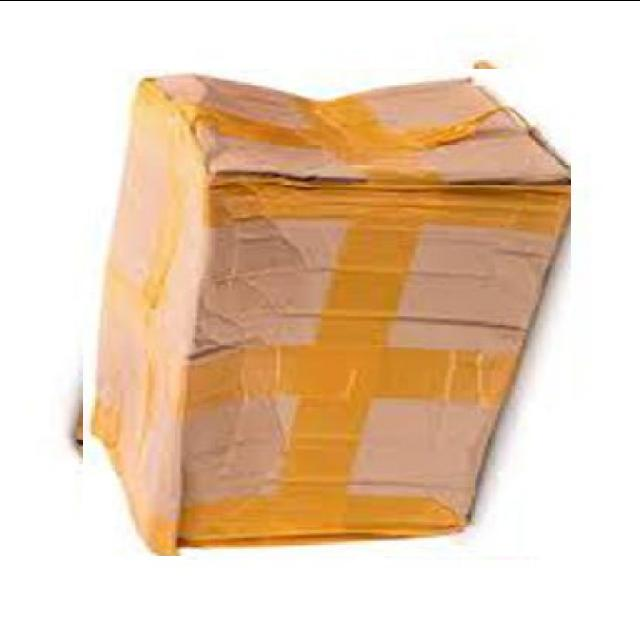normal: (83, 68, 571, 555)
